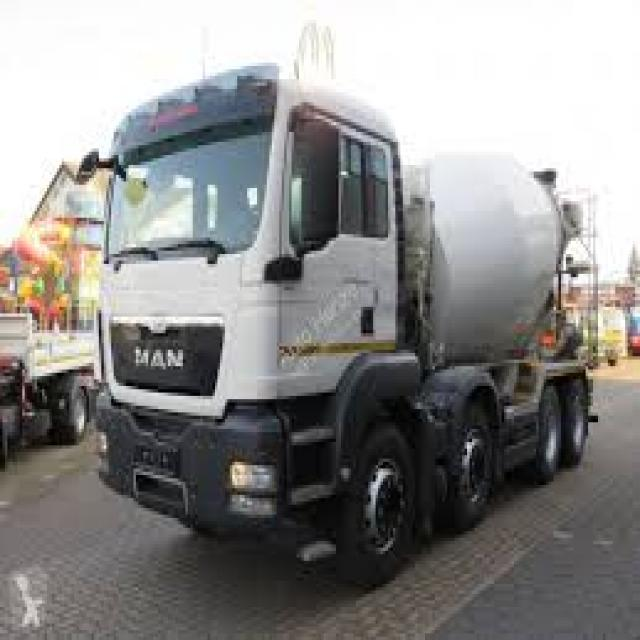Mixer Truck: (73, 58, 602, 587)
